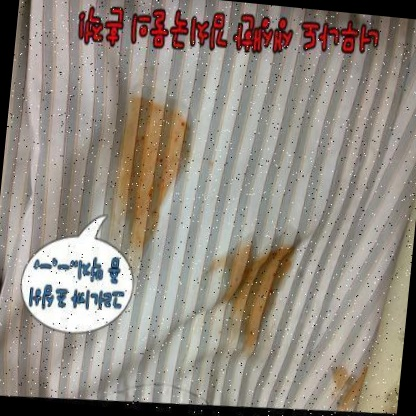kimchi: (198, 234, 301, 370), (112, 96, 198, 253), (321, 358, 367, 412)
